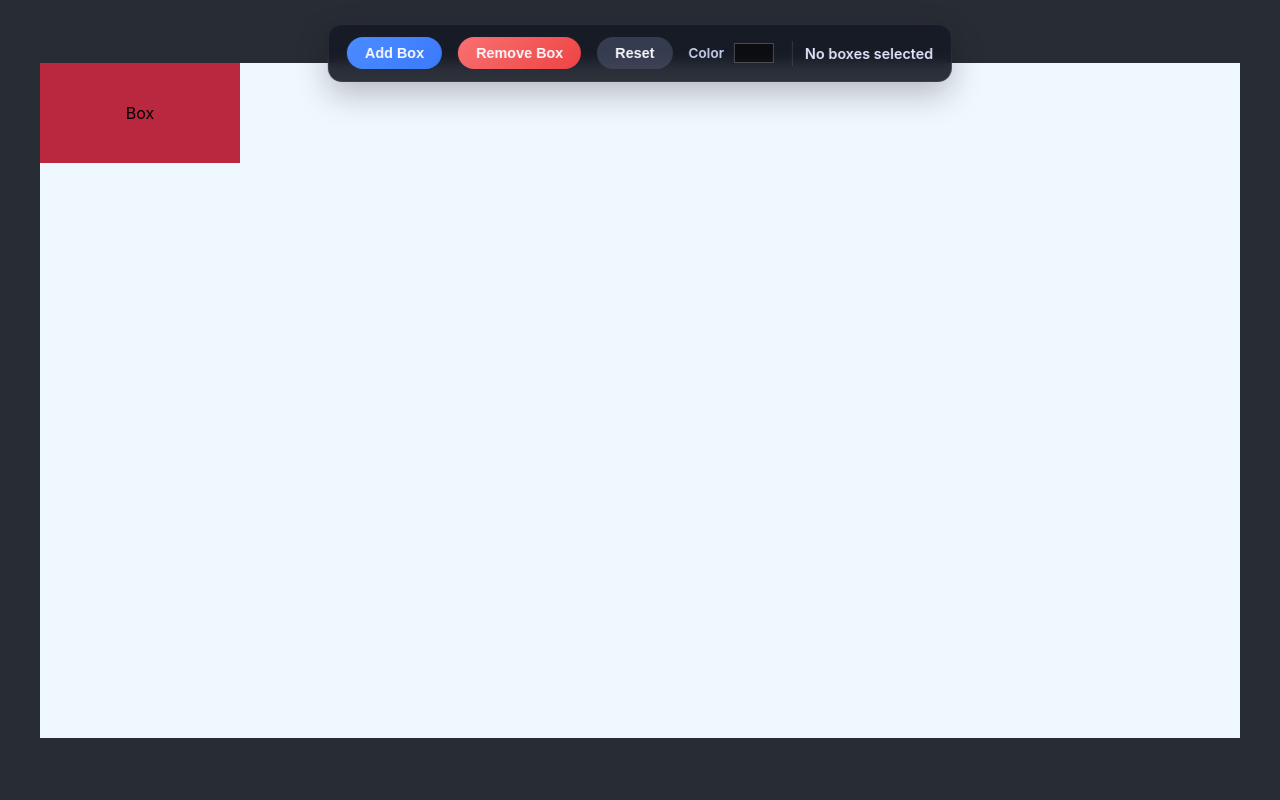
it: App › should show a second box when the user clicks add box then the canvas lists the new element
What coordinates should you click on to do the following:
click the button "Add Box"
I would click on:
 (394, 53)
Its box is x1=347 y1=37 x2=442 y2=69.
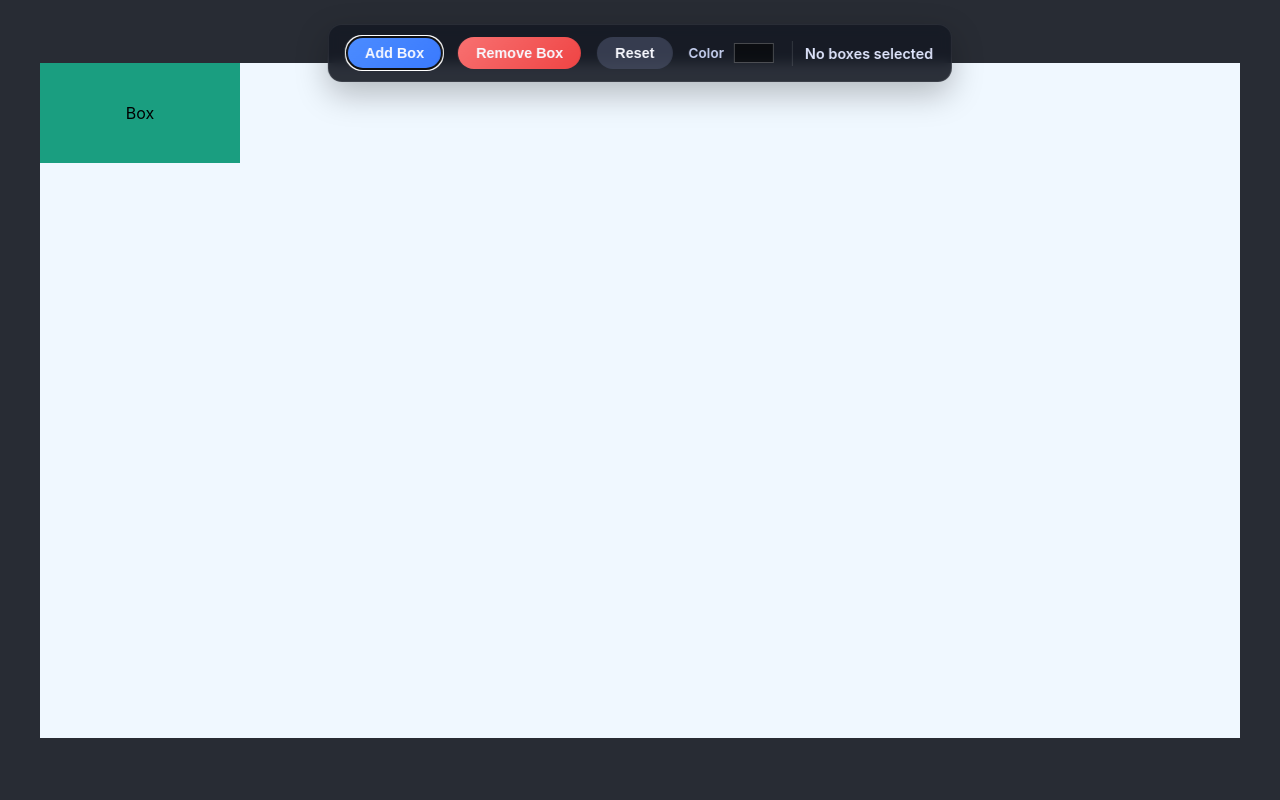
Check: the text "Box" is shown 2 times, box x1=126 y1=102 x2=154 y2=122; x1=126 y1=102 x2=154 y2=122
